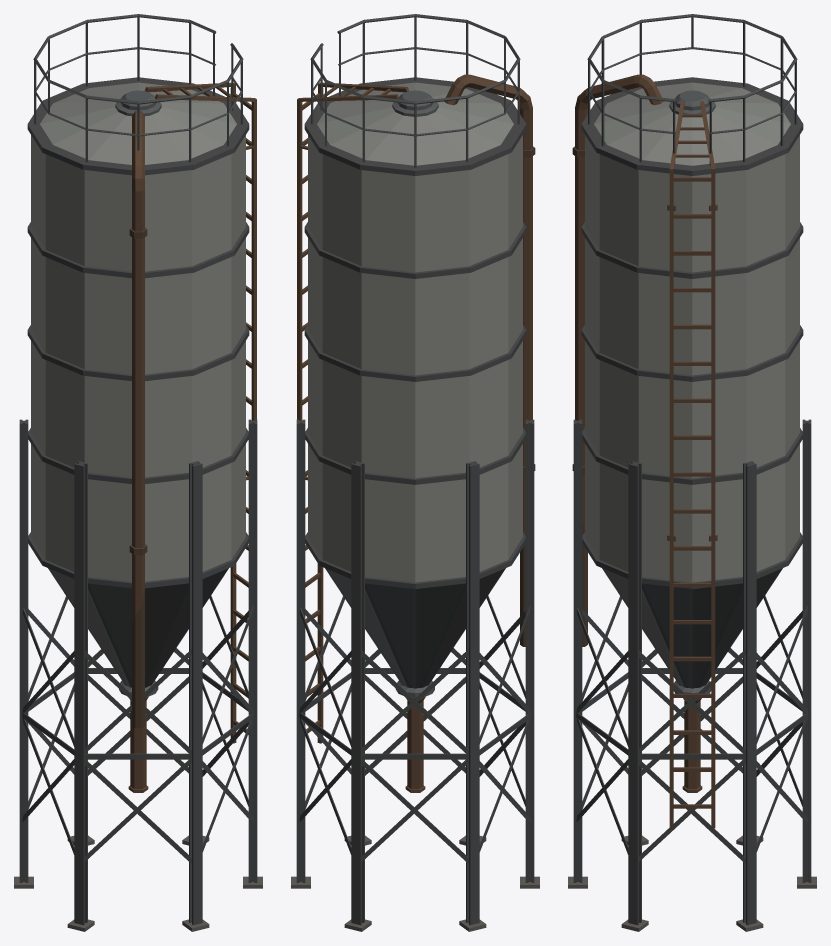
File: SM_Props_Industrial_Silo.fbx
3 renders of one model, left to right at view 1: azimuth 30°, elevation 25°; view 2: azimuth 150°, elevation 25°; view 3: azimuth 270°, elevation 25°, orthographic.
Visible parts, largest first — view 1: SM_Props_Industrial_Silo; view 2: SM_Props_Industrial_Silo; view 3: SM_Props_Industrial_Silo.
Boxes of the visible parts, x1,y1,x2,y2 form: SM_Props_Industrial_Silo: (14, 14, 262, 931); SM_Props_Industrial_Silo: (291, 14, 539, 931); SM_Props_Industrial_Silo: (568, 14, 816, 931).
Bounding box in the file's own units: 139 × 535 × 146.
